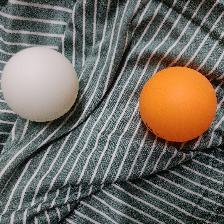WhiteBall: (1, 45, 79, 122)
YellowBall: (138, 66, 216, 142)
